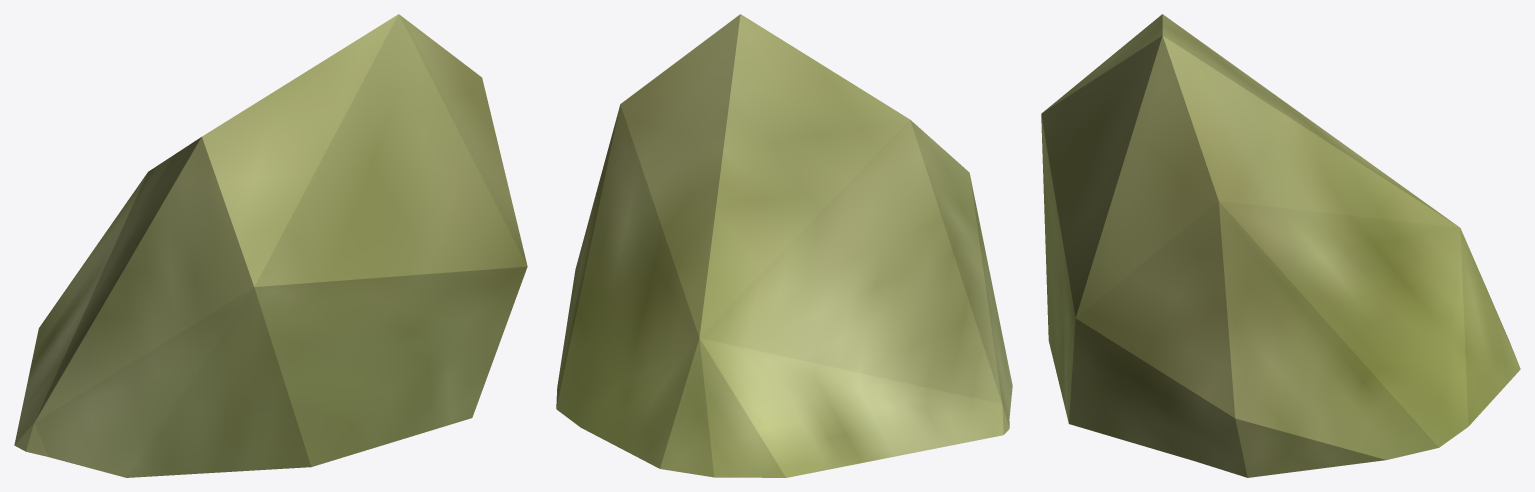
3 renders of one model, left to right at view 1: azimuth 30°, elevation 25°; view 2: azimuth 150°, elevation 25°; view 3: azimuth 270°, elevation 25°, orthographic. The views are drawn at different scales.
Bounding box in the file's own units: 0.4013 × 0.2883 × 0.3336.
Materials: 1 (1 with a texture image).
